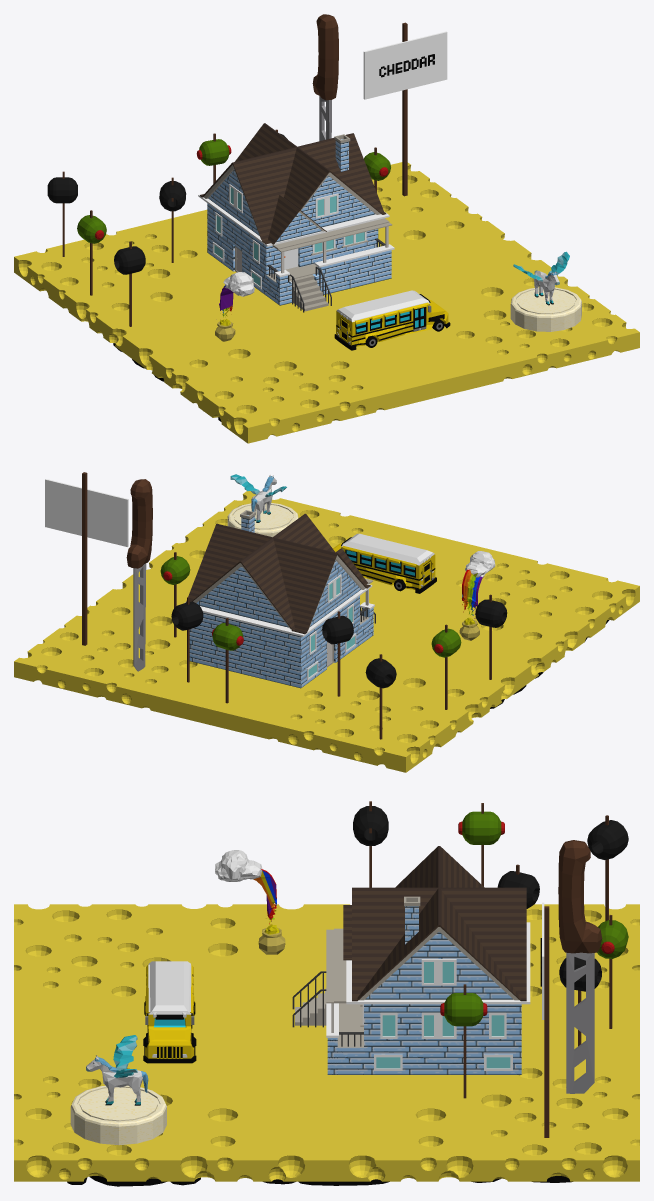
3 views of the same model, one above another, from view 1: azimuth 30°, elevation 25°; view 2: azimuth 150°, elevation 25°; view 3: azimuth 270°, elevation 25° (orthographic). The views are drawn at different scales.
Visible parts, largest first — view 1: Cube.022, Cube.547, Cube.023, VEHICLES_SCHOOL_BUS, Cylinder.016, Cube.024, OBJRANDOM_RAINBOW, ANIMAL_PEGASO, Sphere.017, Sphere.016, Sphere.020, Sphere.018 (+2 smaller); view 2: Cube.022, Cube.547, Cube.023, VEHICLES_SCHOOL_BUS, Cube.024, OBJRANDOM_RAINBOW, Cylinder.016, Sphere.020, Sphere.016, Sphere.022, ANIMAL_PEGASO, Sphere.017 (+3 smaller); view 3: Cube.022, Cube.547, Cube.024, VEHICLES_SCHOOL_BUS, Cylinder.016, OBJRANDOM_RAINBOW, ANIMAL_PEGASO, Cube.023, Sphere.019, Sphere.016, Sphere.018, Curve.014 (+4 smaller).
Part boxes in pixels (x1,y1,x2,y2): Cube.022: (14, 162, 639, 443); Cube.547: (198, 123, 394, 312); Cube.023: (363, 22, 447, 196); VEHICLES_SCHOOL_BUS: (334, 290, 450, 350); Cylinder.016: (510, 287, 581, 331); Cube.024: (312, 14, 338, 141); OBJRANDOM_RAINBOW: (215, 272, 254, 341); ANIMAL_PEGASO: (513, 251, 569, 305); Sphere.017: (114, 241, 145, 326); Sphere.016: (47, 171, 77, 256); Sphere.020: (159, 177, 186, 262); Sphere.018: (77, 210, 106, 295); Cube.022: (14, 491, 639, 772); Cube.547: (185, 510, 375, 688); Cube.023: (45, 472, 128, 645); VEHICLES_SCHOOL_BUS: (333, 533, 436, 593); Cube.024: (126, 479, 152, 671); OBJRANDOM_RAINBOW: (459, 551, 495, 640); Cylinder.016: (227, 503, 298, 537); Sphere.020: (322, 611, 353, 696); Sphere.016: (365, 654, 396, 739); Sphere.022: (212, 618, 243, 703); ANIMAL_PEGASO: (230, 474, 286, 522); Sphere.017: (475, 594, 507, 679); Cube.022: (14, 904, 639, 1181); Cube.547: (292, 846, 530, 1074); Cube.024: (558, 840, 602, 1093); VEHICLES_SCHOOL_BUS: (143, 961, 196, 1063); Cylinder.016: (70, 1085, 166, 1145); OBJRANDOM_RAINBOW: (215, 850, 285, 954); ANIMAL_PEGASO: (86, 1035, 148, 1105); Cube.023: (540, 902, 549, 1137); Sphere.019: (440, 984, 487, 1098); Sphere.016: (587, 815, 628, 920); Sphere.018: (458, 803, 504, 886); Curve.014: (67, 1176, 572, 1186).
Bounding box in the file's own units: 3917 × 1980 × 4000.
Materials: 43 (4 with a texture image).
